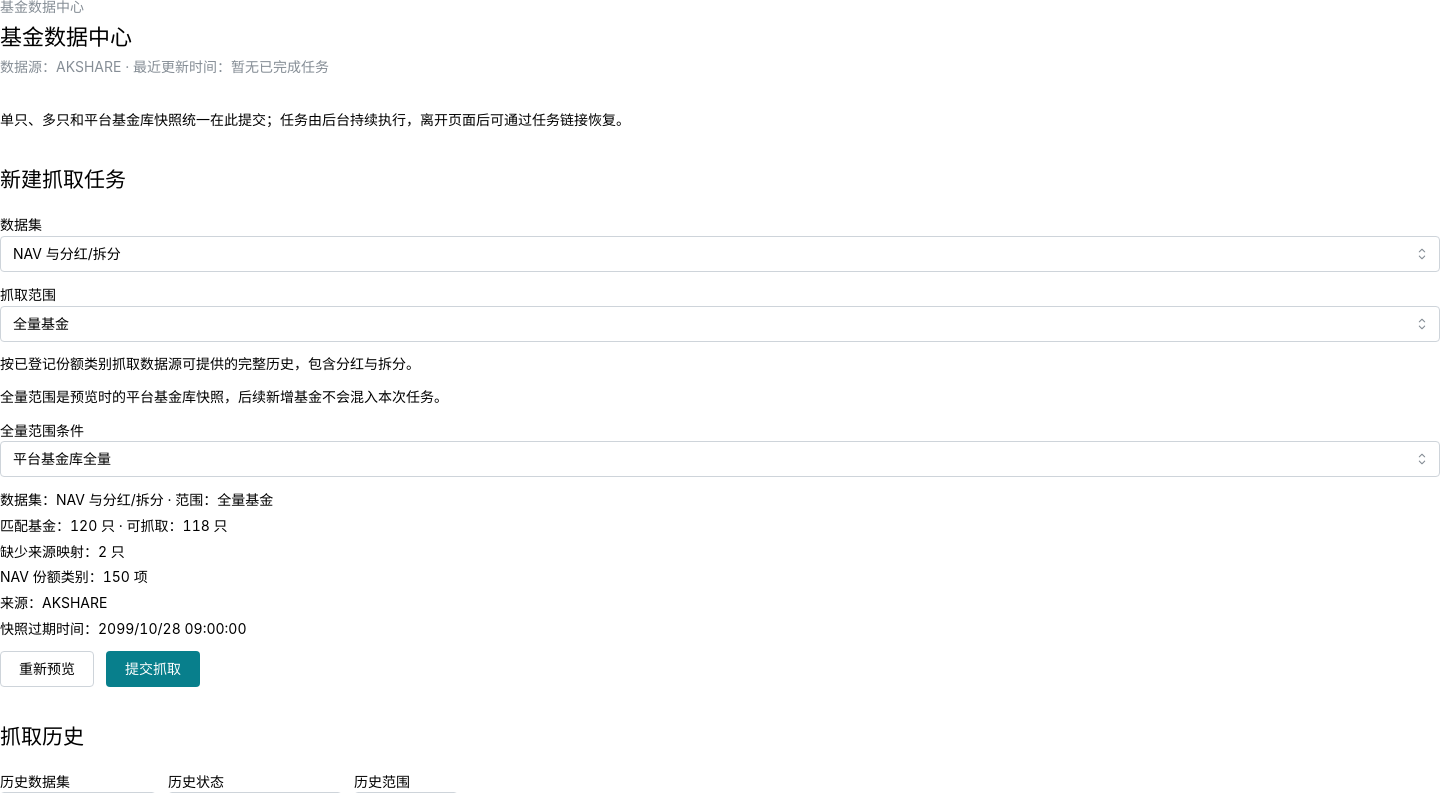
Test: fund data center › confirms ALL as a platform snapshot and allows keyboard cancellation without submission
Expected: the text "缺少来源映射：2 只" is shown, [0, 543, 125, 560]
Click the button "提交抓取" at [153, 669], box [106, 651, 200, 687]
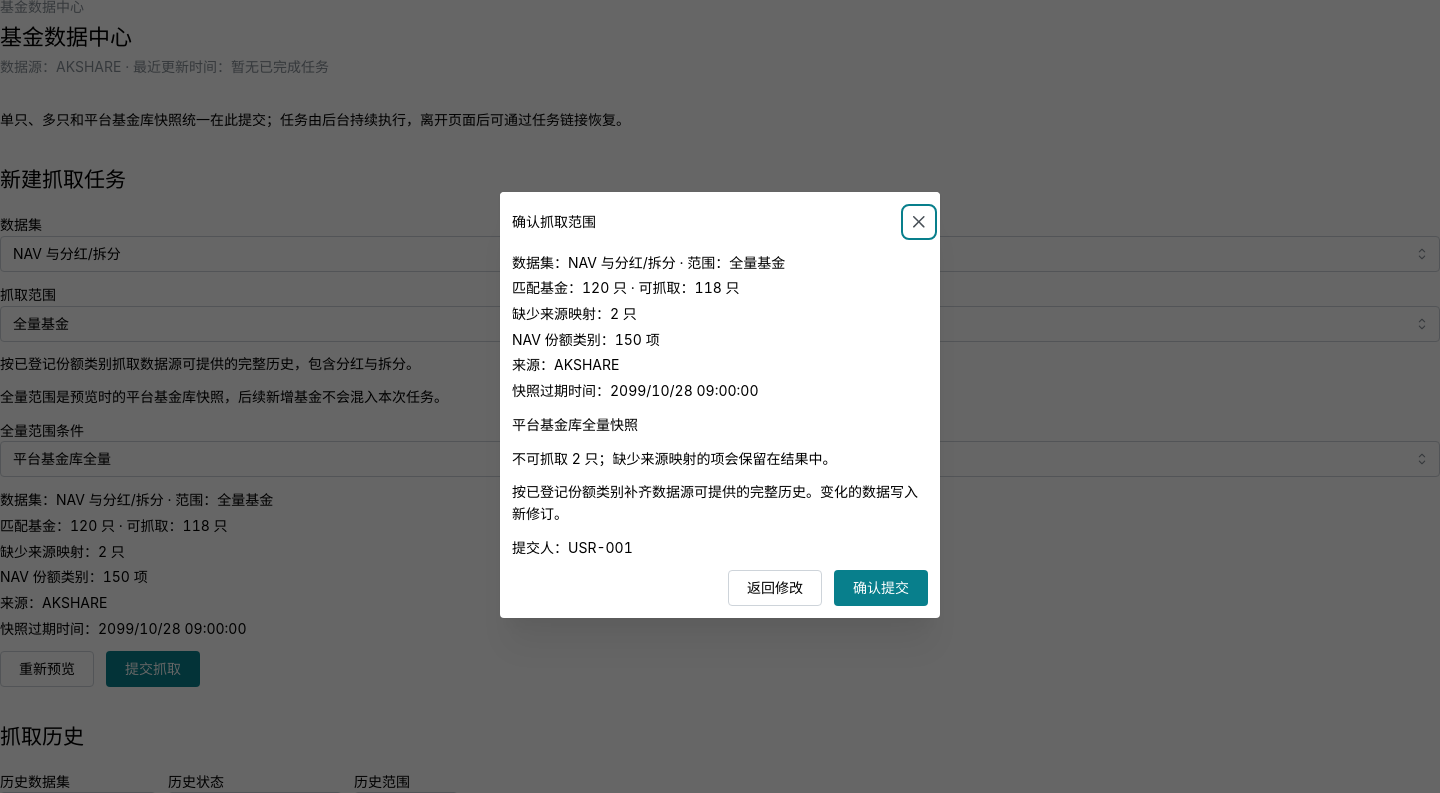
Now the dialog shows "平台基金库", box [512, 416, 638, 433]
Now the dialog shows "完整历史", box [512, 483, 820, 500]
Now the dialog shows "不可抓取 2", box [500, 192, 940, 618]
Press Escape
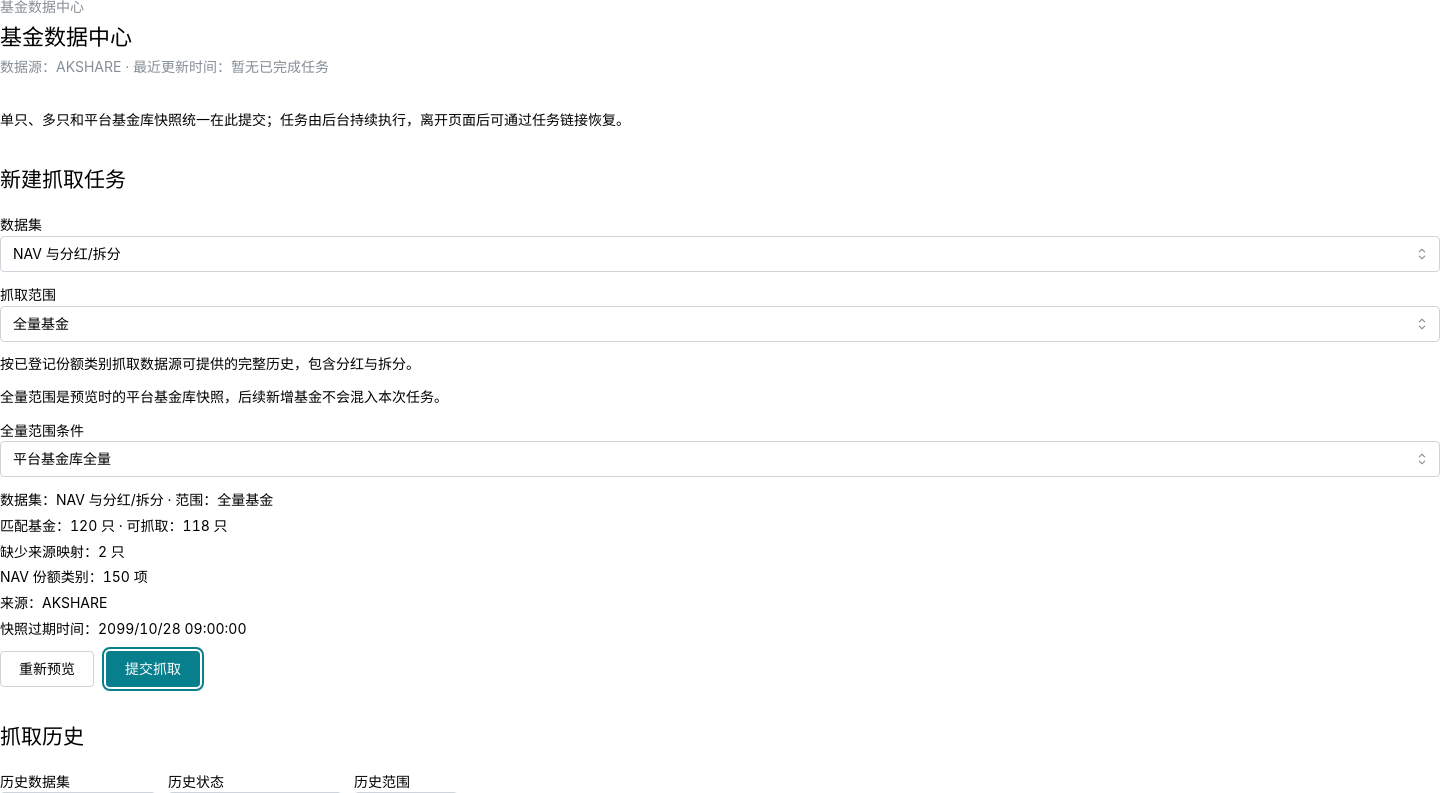
Now the dialog is gone
